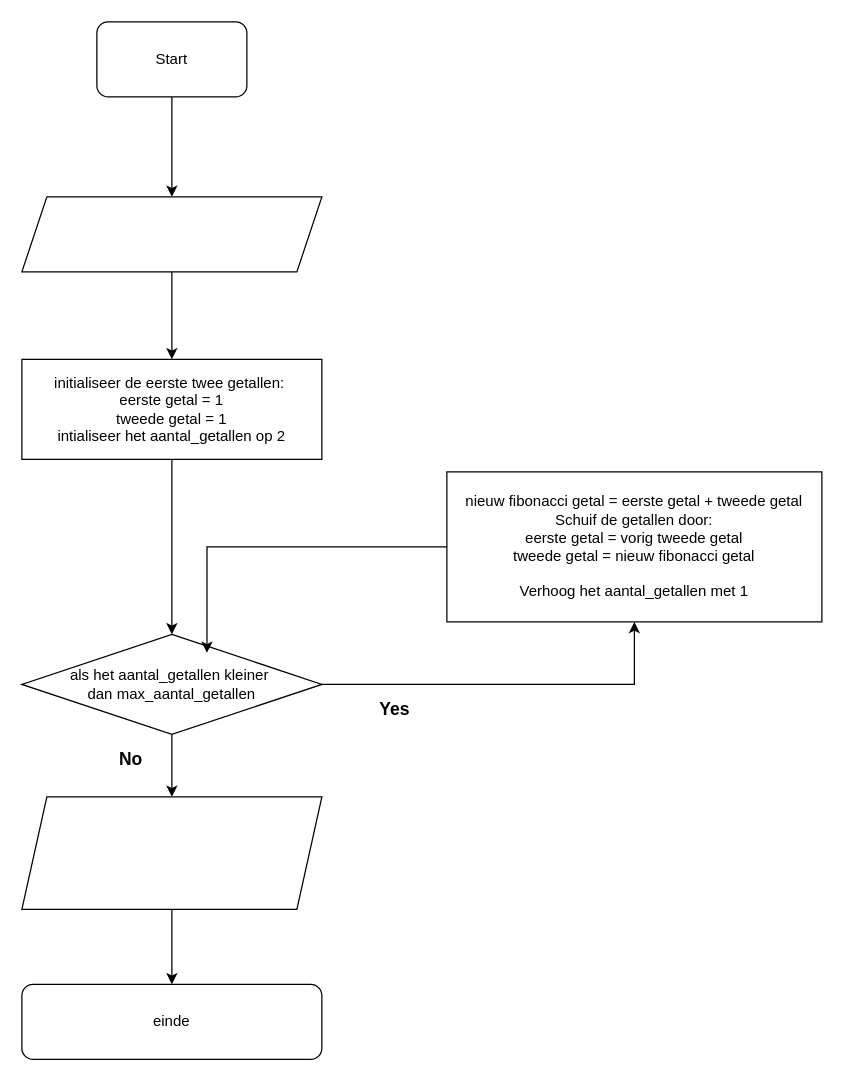
Image size: 844x1081. Some labels were removed from this diagram. Here are the shapes that lost their labels. From the top down, the box of each, then its label:
(21, 196, 322, 272): Vraag max_aantal_getallen aan de gebruiker (minimum 2)
(21, 796, 322, 909): Druk het tweede getal af. Dit is het laatste berekende fibonacci getal gebruiker
